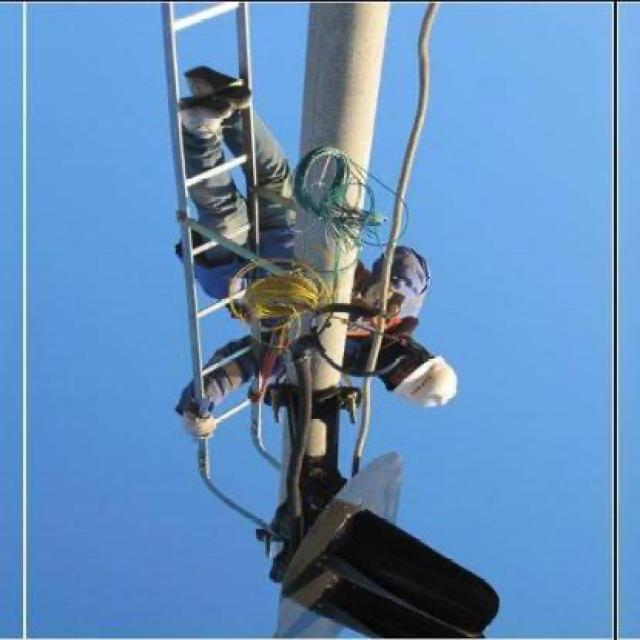con casco: (371, 292, 477, 424)
